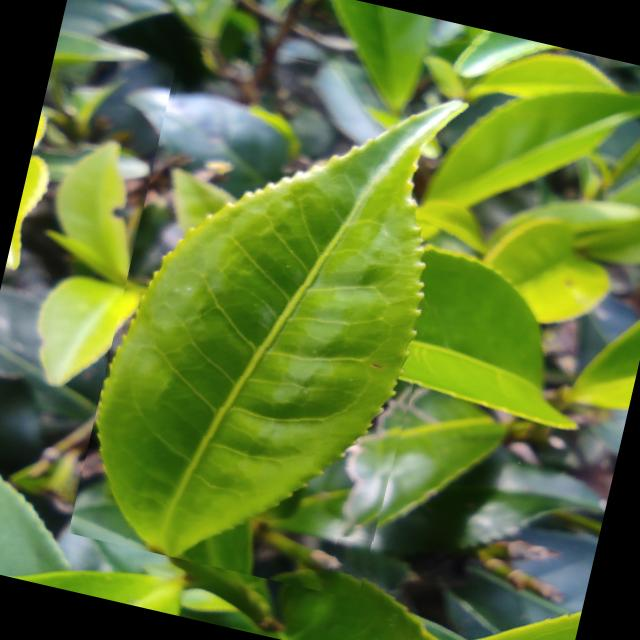Category B(2-4 days): (67, 30, 487, 602)
